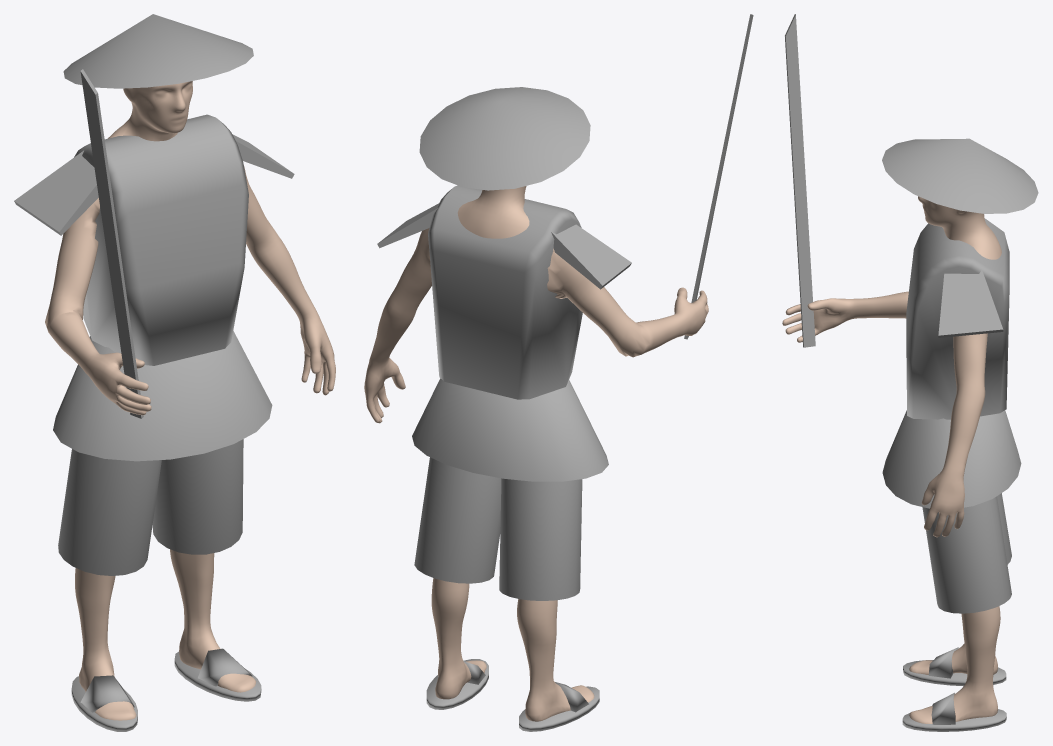
The model's file is Personnage.fbx.
The picture shows the model from 3 angles, left to right: view 1: azimuth 30°, elevation 25°; view 2: azimuth 150°, elevation 25°; view 3: azimuth 270°, elevation 25°; orthographic projection. The views are drawn at different scales.
Parts seen in each view (by area): view 1: humanBody1; view 2: humanBody1; view 3: humanBody1.
Boxes of the visible parts, bbox=[...] form: humanBody1: bbox=[14, 14, 335, 731]; humanBody1: bbox=[364, 14, 753, 731]; humanBody1: bbox=[782, 14, 1038, 731].
Size of the model in its own units: 99.18 by 205 by 77.61.
